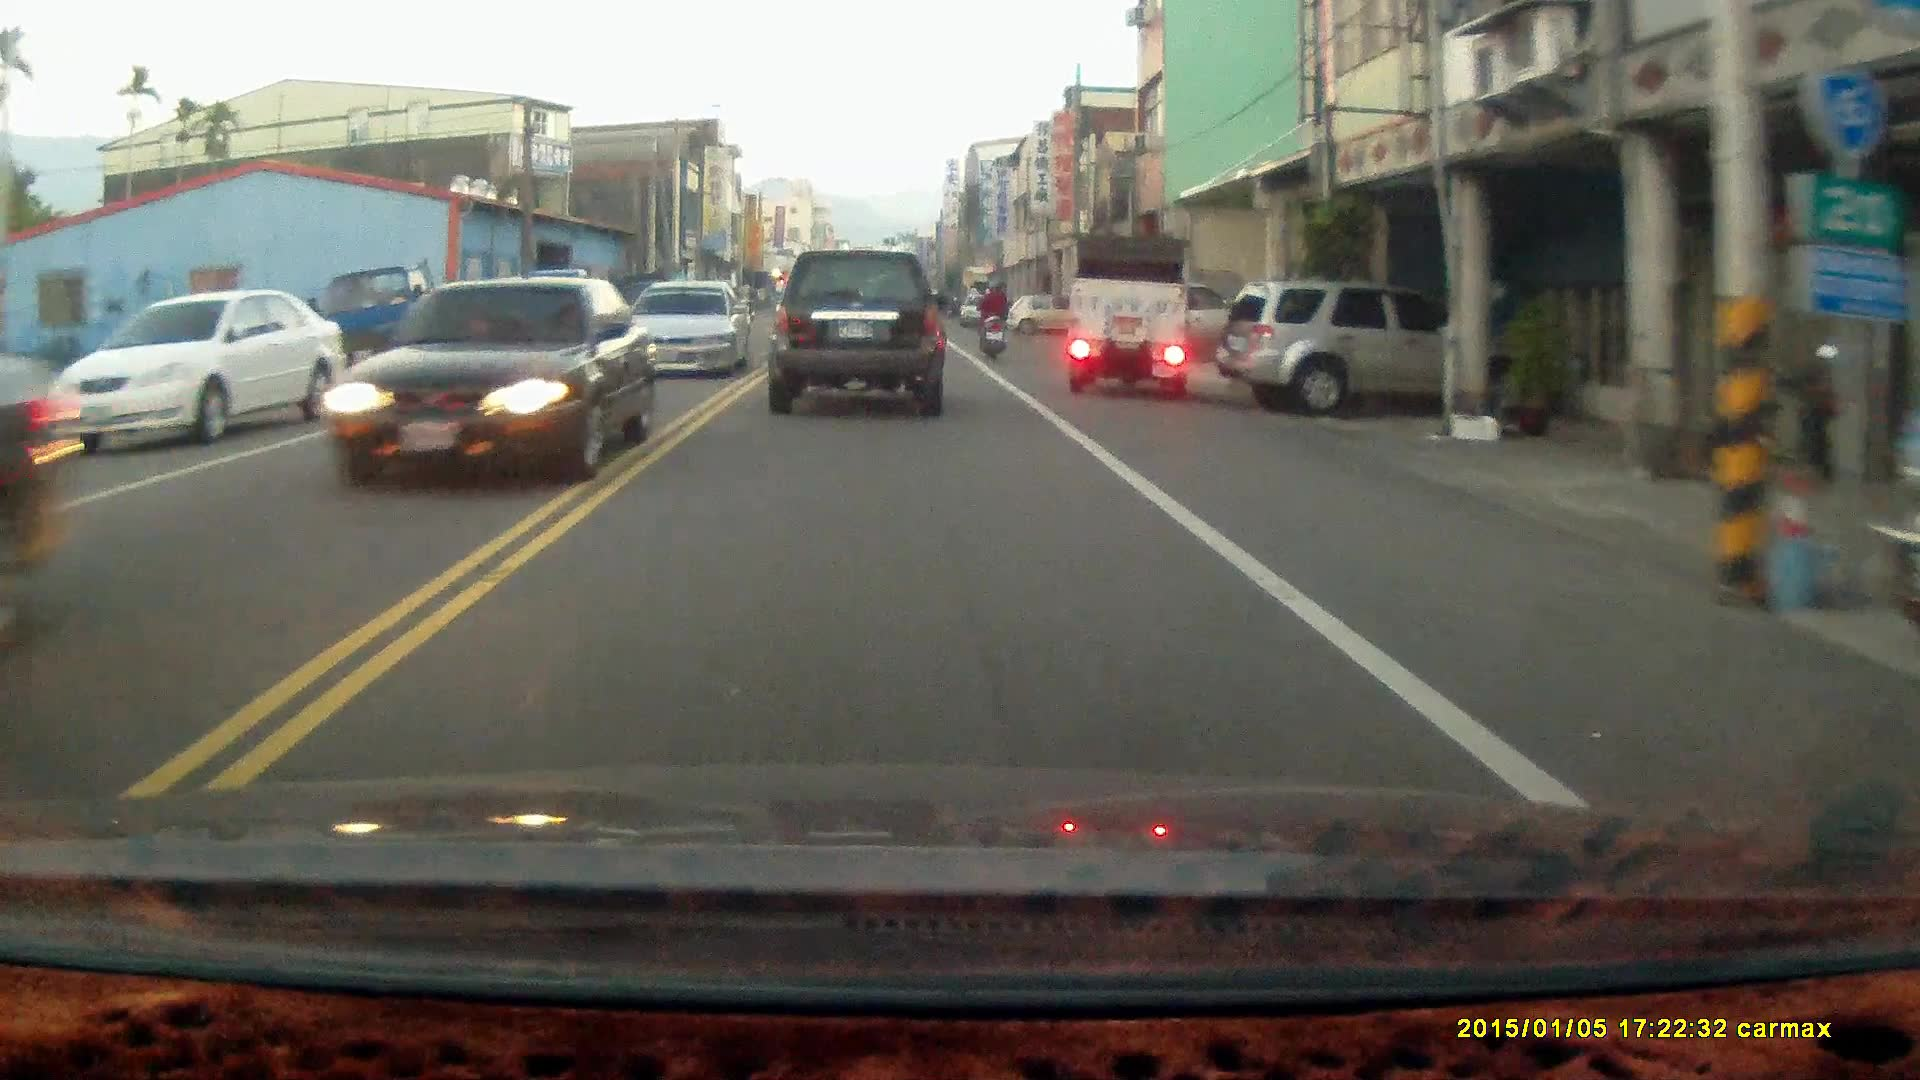rider: (973, 276, 1011, 363)
vehicle: (327, 280, 650, 492), (42, 290, 346, 453), (1234, 280, 1470, 423), (766, 259, 948, 426), (1065, 237, 1192, 398), (626, 284, 750, 384)
